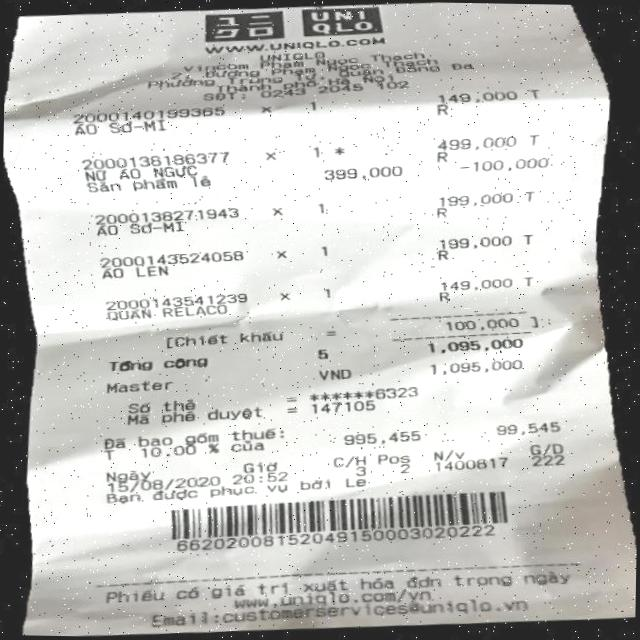Date: (101, 472, 222, 494)
Store_Name: (256, 46, 332, 63)
amount_number: (422, 331, 532, 356)
label_total: (102, 348, 212, 376)
